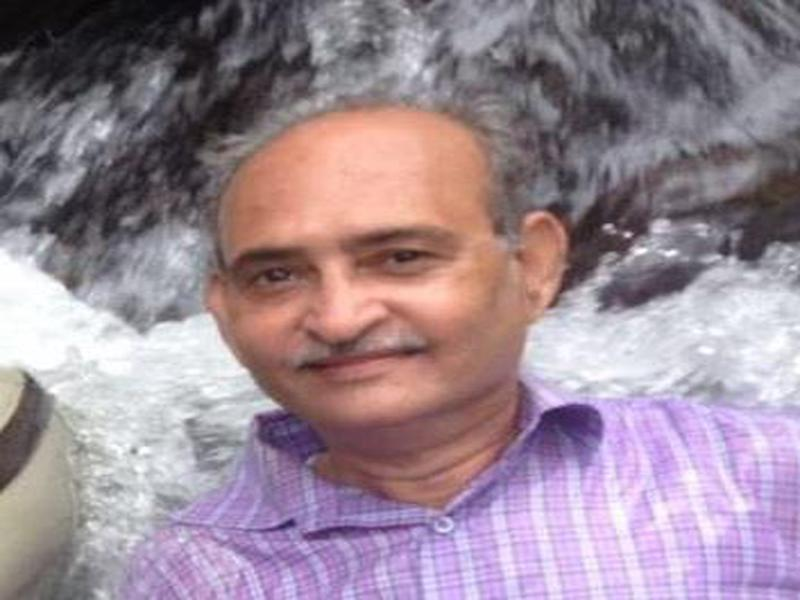without_mask: (216, 178, 508, 425)
